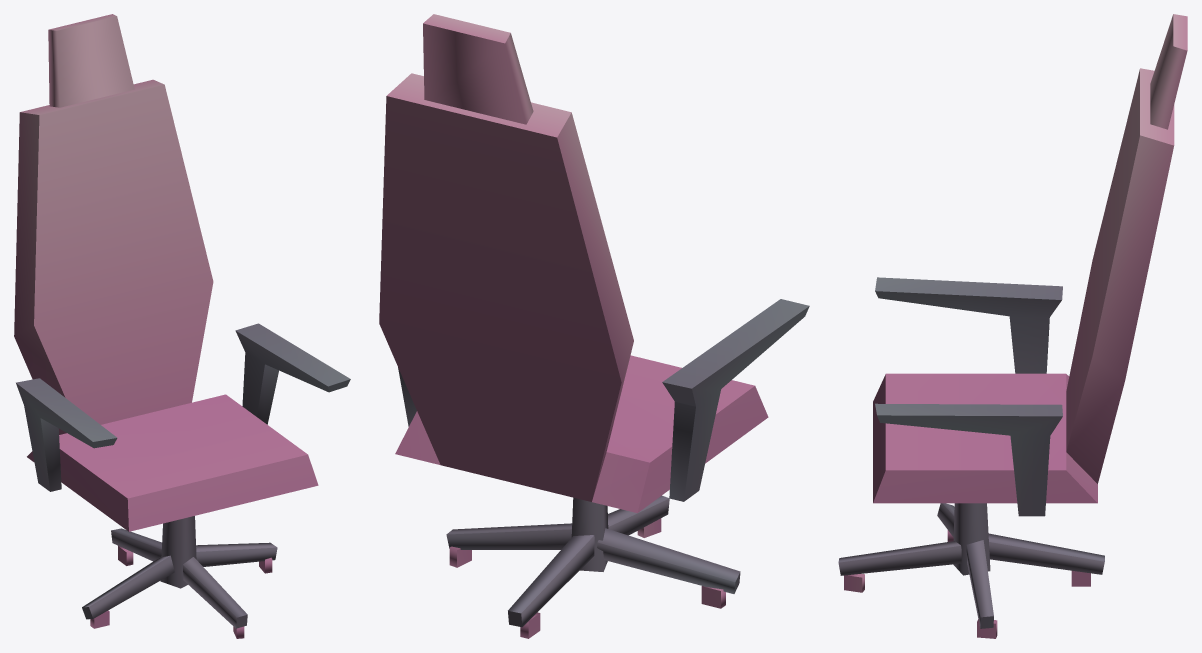
The model's file is chair_1.glb.
3 renders of one model, left to right at view 1: azimuth 30°, elevation 25°; view 2: azimuth 150°, elevation 25°; view 3: azimuth 270°, elevation 25°, orthographic. The views are drawn at different scales.
Parts seen in each view (by area): view 1: chair_1; view 2: chair_1; view 3: chair_1.
Boxes of the visible parts, box(x1,y1,x2,y2) form: chair_1: box(14, 14, 350, 638); chair_1: box(379, 14, 809, 638); chair_1: box(838, 14, 1187, 638).
Bounding box in the file's own units: 0.767 × 1.44 × 0.8197.
